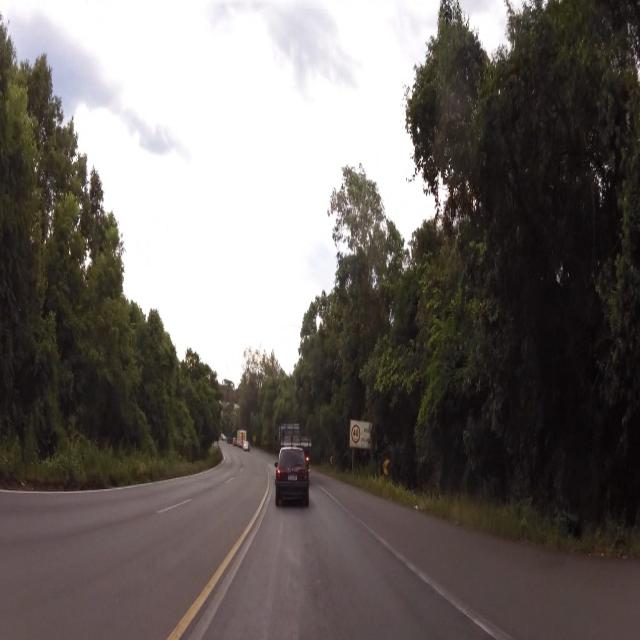R-19: (351, 424, 360, 445)
